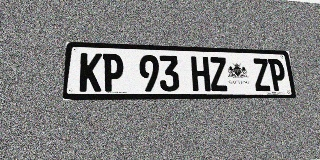3: (159, 55, 179, 91)
9: (139, 55, 159, 91)
H: (191, 56, 211, 91)
K: (79, 53, 102, 92)
P: (102, 53, 123, 92), (268, 59, 287, 91)
Z: (209, 57, 229, 91), (252, 58, 271, 91)
